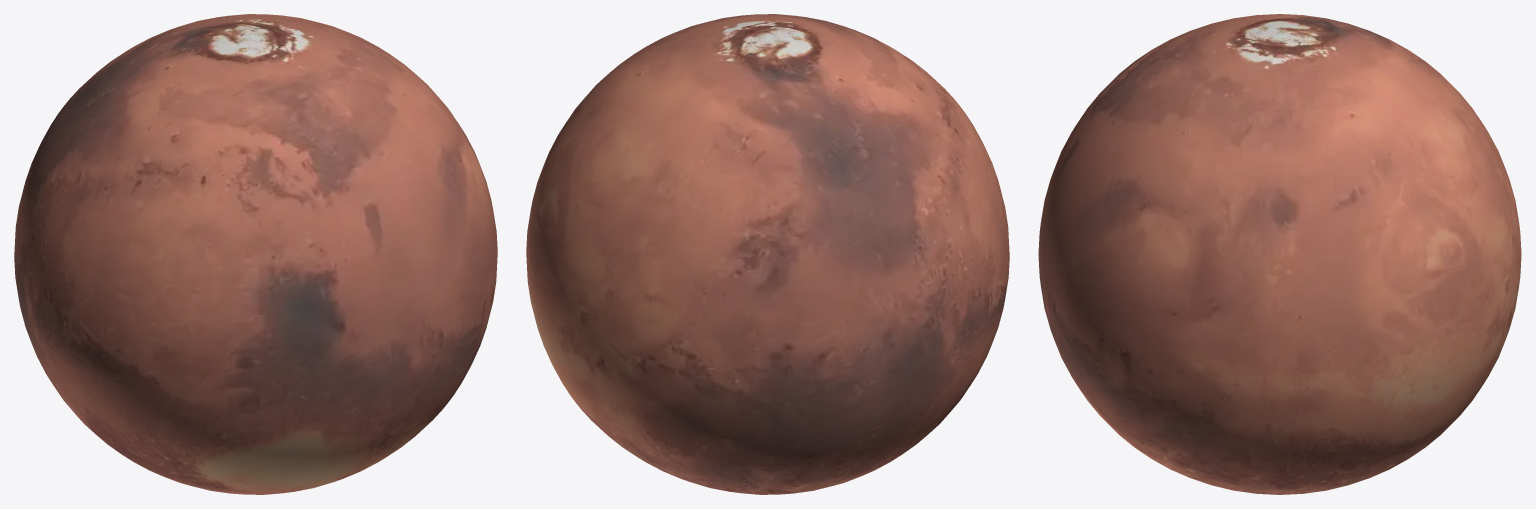
File: Mars.glb
3 renders of one model, left to right at view 1: azimuth 30°, elevation 25°; view 2: azimuth 150°, elevation 25°; view 3: azimuth 270°, elevation 25°, orthographic.
Visible parts, largest first — view 1: Cube008; view 2: Cube008; view 3: Cube008.
Boxes of the visible parts, x1,y1,x2,y2 form: Cube008: (14, 14, 497, 494); Cube008: (526, 14, 1009, 494); Cube008: (1038, 14, 1521, 494).
Size of the model in its own units: 1000 by 994 by 1000.
1 material, 1 textured.
